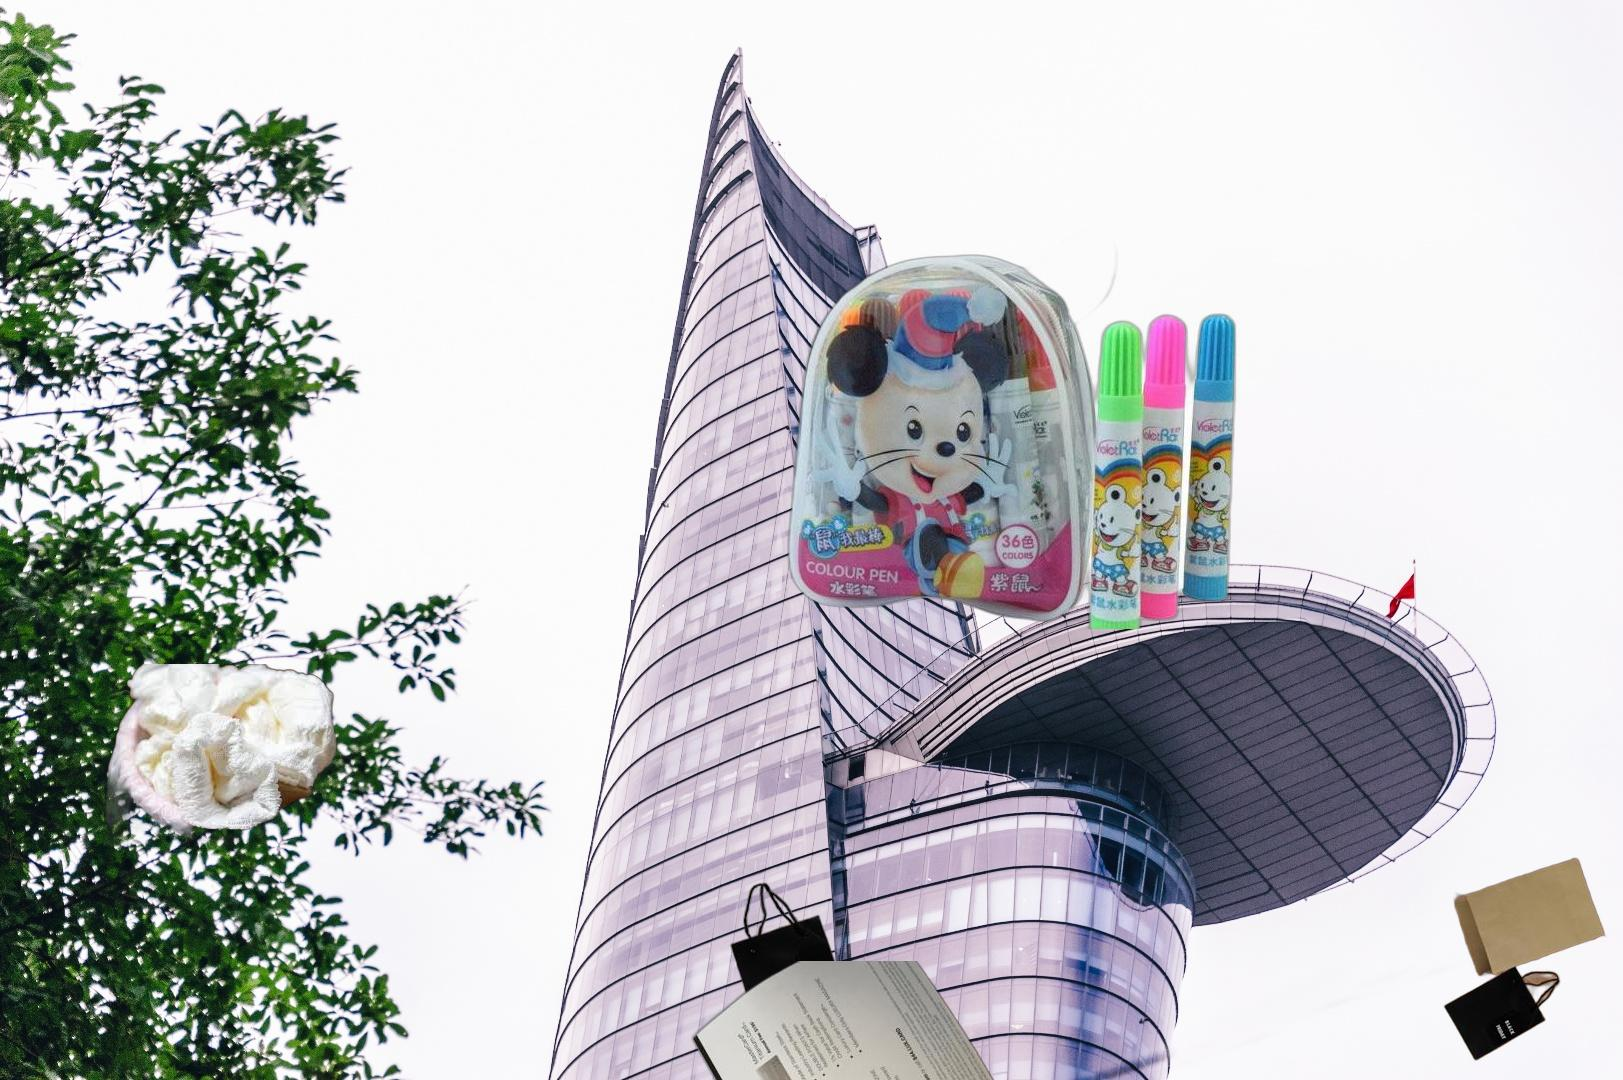paper: (688, 961, 1069, 1080)
paper-bag: (1442, 857, 1609, 1063), (728, 880, 860, 1064)
penholder: (784, 228, 1241, 629)
trash: (98, 664, 340, 847)
